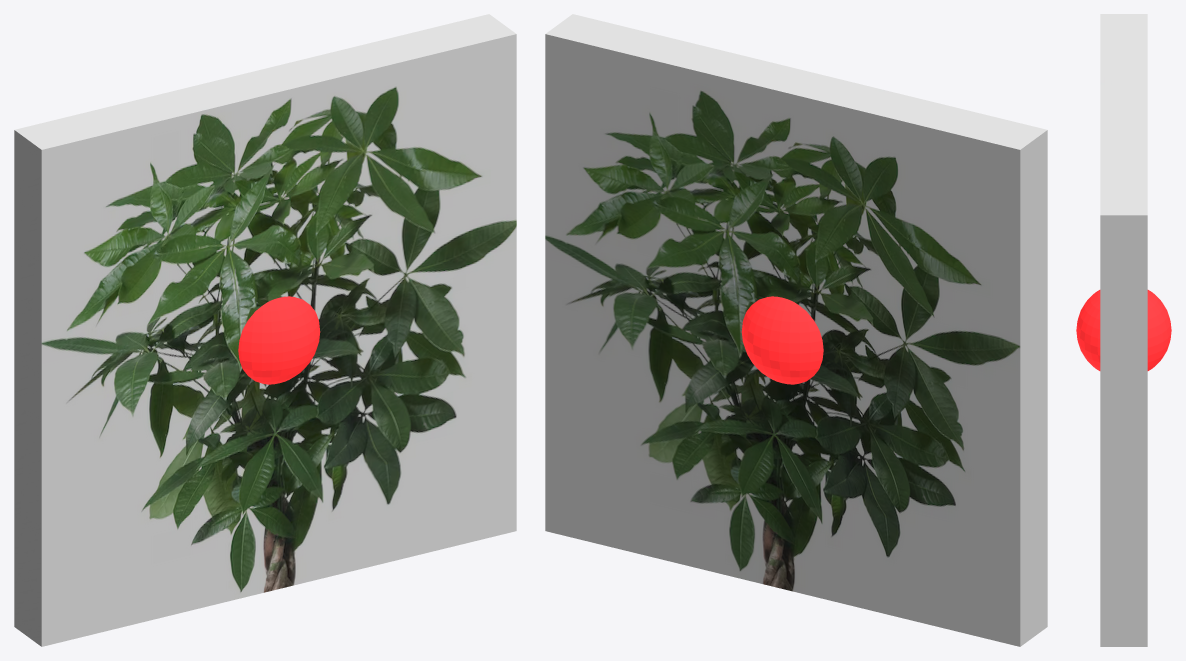
The model's file is tomato_1.dae.
3 views of the same model, side by side, from view 1: azimuth 30°, elevation 25°; view 2: azimuth 150°, elevation 25°; view 3: azimuth 270°, elevation 25° (orthographic). The views are drawn at different scales.
Parts seen in each view (by area): view 1: Cube, Sphere; view 2: Cube, Sphere; view 3: Cube, Sphere.
Part boxes in pixels (<box>): Cube: <box>14,14,516,646</box>; Sphere: <box>238,296,320,384</box>; Cube: <box>545,14,1047,646</box>; Sphere: <box>741,296,823,384</box>; Cube: <box>1100,14,1147,646</box>; Sphere: <box>1076,290,1171,370</box>.
Bounding box in the file's own units: 1 × 0.2 × 1.
2 materials, 1 textured.
